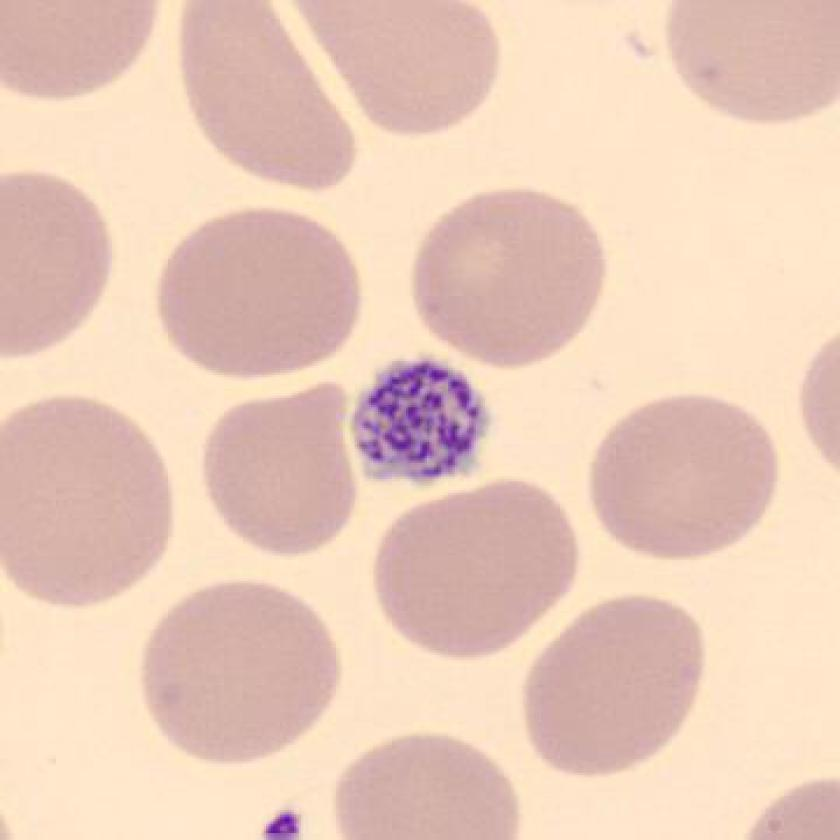platelets: (349, 348, 496, 499)
